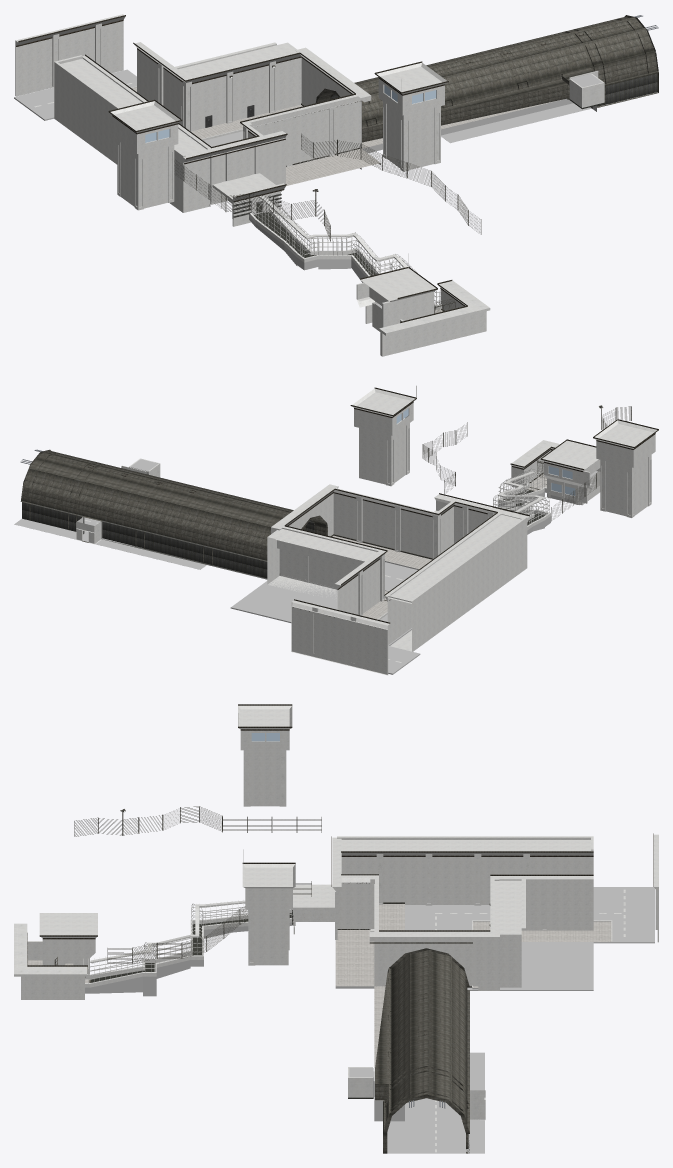
Rendered from Poverhnost.fbx.
The picture shows the model from 3 angles, top to bottom: view 1: azimuth 30°, elevation 25°; view 2: azimuth 150°, elevation 25°; view 3: azimuth 270°, elevation 25°; orthographic projection. The views are drawn at different scales.
Visible parts, largest first — view 1: Outside; view 2: Outside; view 3: Outside.
Part boxes in pixels (x1,y1,x2,y2): Outside: [14, 14, 658, 356]; Outside: [14, 385, 658, 675]; Outside: [14, 704, 658, 1153].
Bounding box in the file's own units: 16844 × 5267 × 15541.
